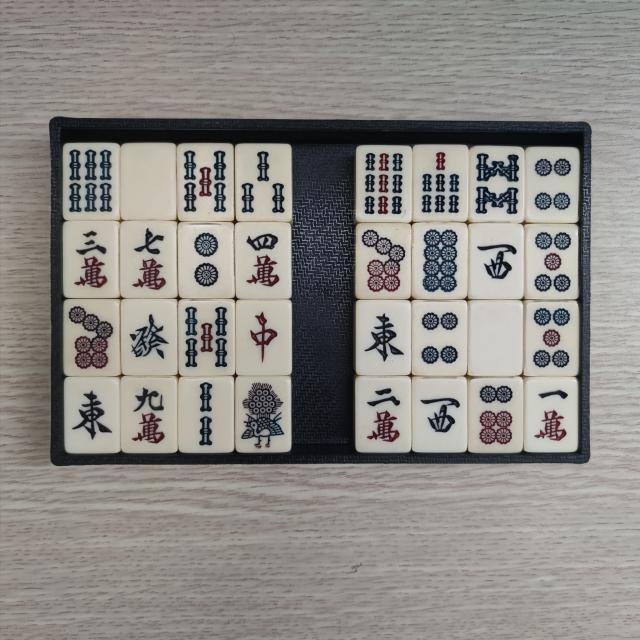hdg: (126, 306, 172, 372)
hdr: (240, 304, 284, 370)
hdw: (126, 152, 170, 217), (474, 308, 518, 372)
hwe: (70, 384, 117, 449), (361, 308, 407, 370)
hww: (473, 230, 519, 296), (417, 384, 462, 448)
sb1: (239, 382, 286, 452)
sb2: (185, 380, 231, 450)
sb3: (242, 148, 290, 218)
sb5: (183, 147, 231, 217), (183, 302, 231, 370)
sb6: (65, 149, 114, 218)
sb7: (419, 149, 465, 216)
sb8: (474, 150, 521, 218)
sb9: (362, 150, 406, 218)
sc1: (529, 384, 572, 448)
sc2: (360, 384, 406, 449)
sc3: (69, 225, 115, 293)
sc4: (242, 226, 288, 290)
sc7: (126, 224, 170, 294)
sc9: (126, 381, 172, 448)
sd2: (185, 228, 229, 294)
sd4: (417, 307, 462, 372), (532, 151, 574, 217)
sd5: (532, 229, 576, 296), (530, 307, 574, 372)
sd6: (475, 383, 518, 449)
sd7: (68, 304, 116, 372), (362, 229, 408, 296)
sd8: (419, 228, 464, 296)
